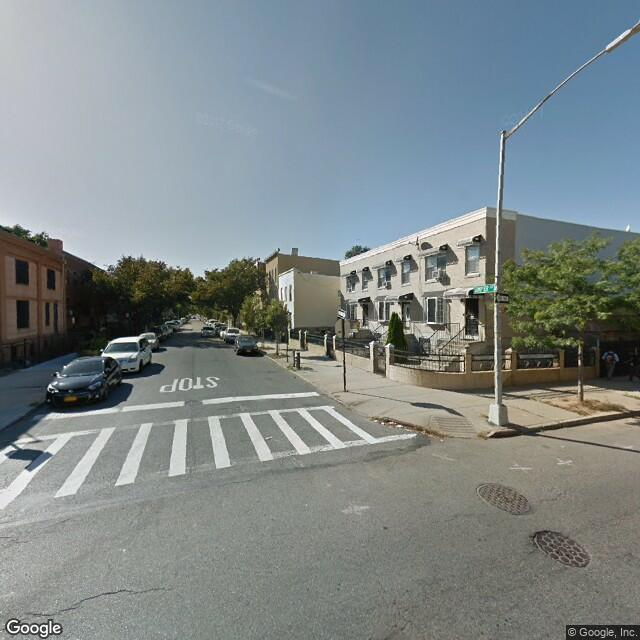litter: (373, 415, 432, 441)
